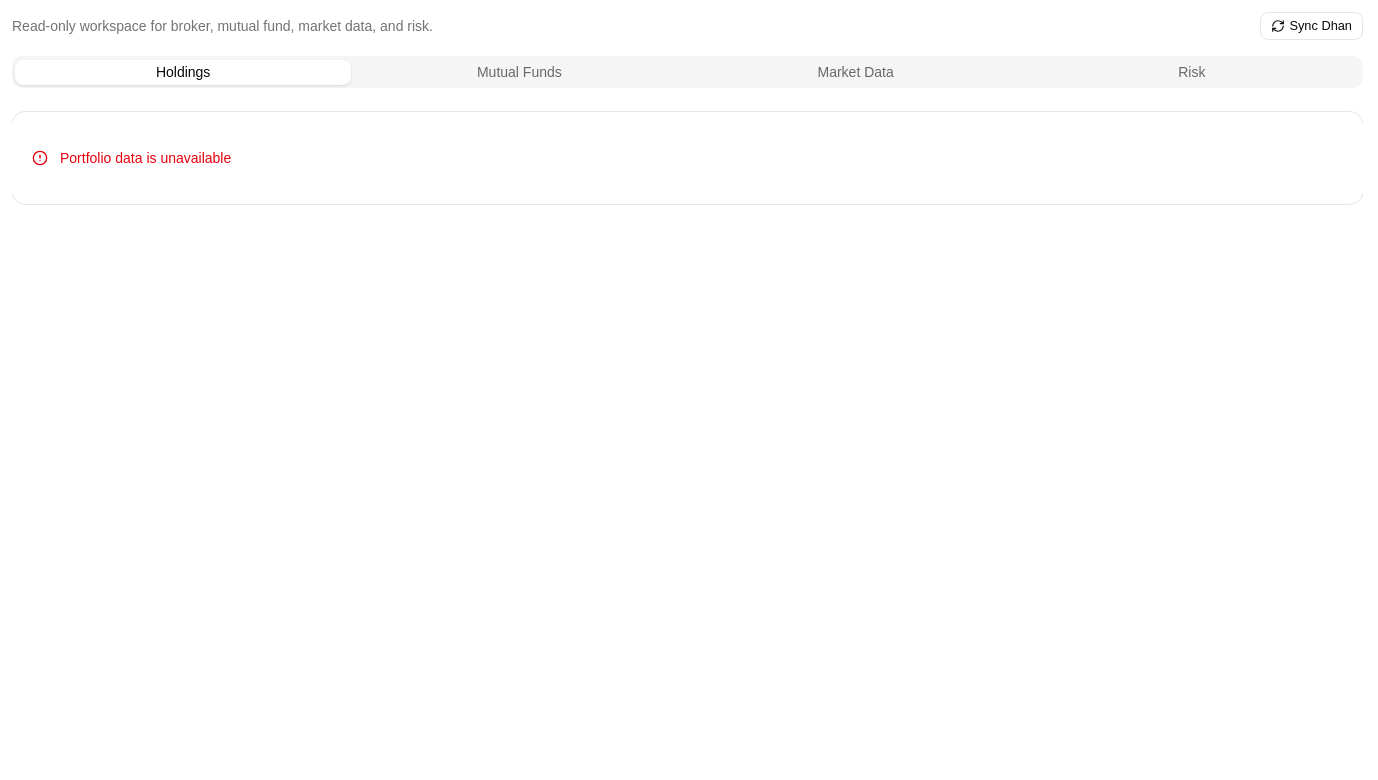
Scenario: PortfolioPage sync handling › uses sync response snapshot and holdings instead of waiting for duplicate refetches
Click the button "Sync Dhan": (1312, 26) [1260,12,1363,40]
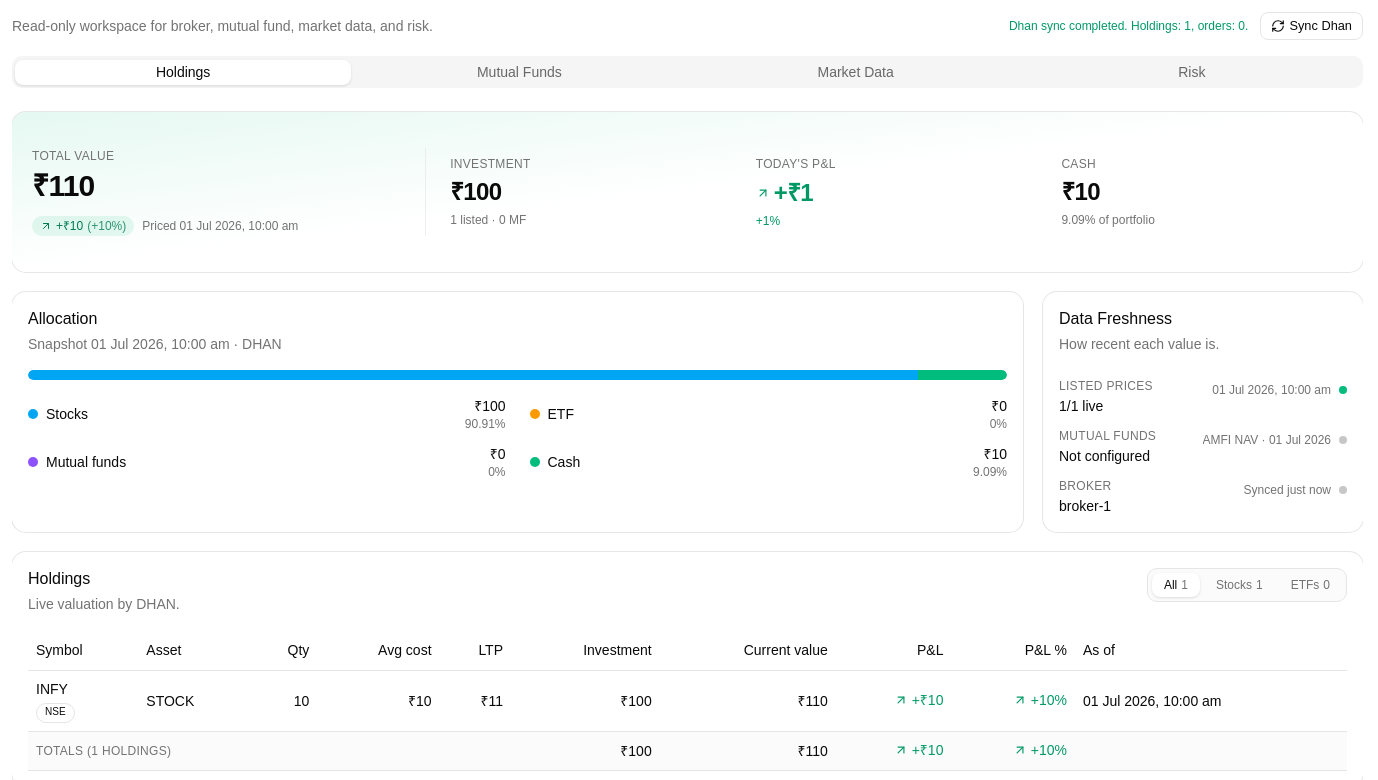
Result: the text "INFY" is shown at [36,680,68,696]
Result: the text "Dhan sync completed. Holdings: 1, orders: 0." is shown at [1009,18,1248,34]
